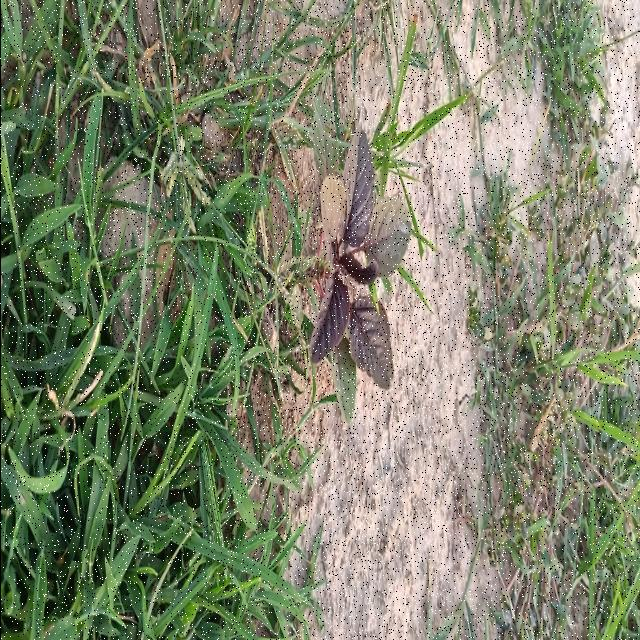plant: (310, 127, 410, 421)
